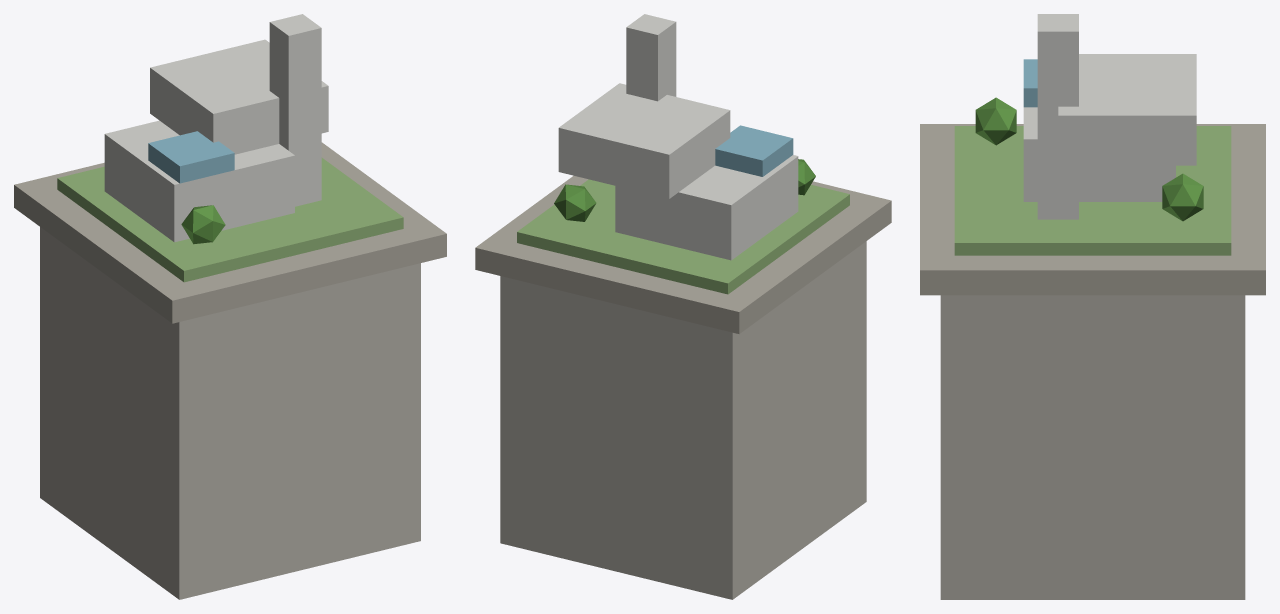
Rendered from c-maquette.glb.
The picture shows the model from 3 angles, left to right: view 1: azimuth 30°, elevation 25°; view 2: azimuth 150°, elevation 25°; view 3: azimuth 270°, elevation 25°; orthographic projection. The views are drawn at different scales.
Visible parts, largest first — view 1: c-maquette; view 2: c-maquette; view 3: c-maquette.
Part boxes in pixels (x1,y1,x2,y2): c-maquette: [14, 14, 446, 599]; c-maquette: [475, 14, 891, 599]; c-maquette: [920, 14, 1265, 599].
Size of the model in its own units: 0.5 by 0.86 by 0.5.
